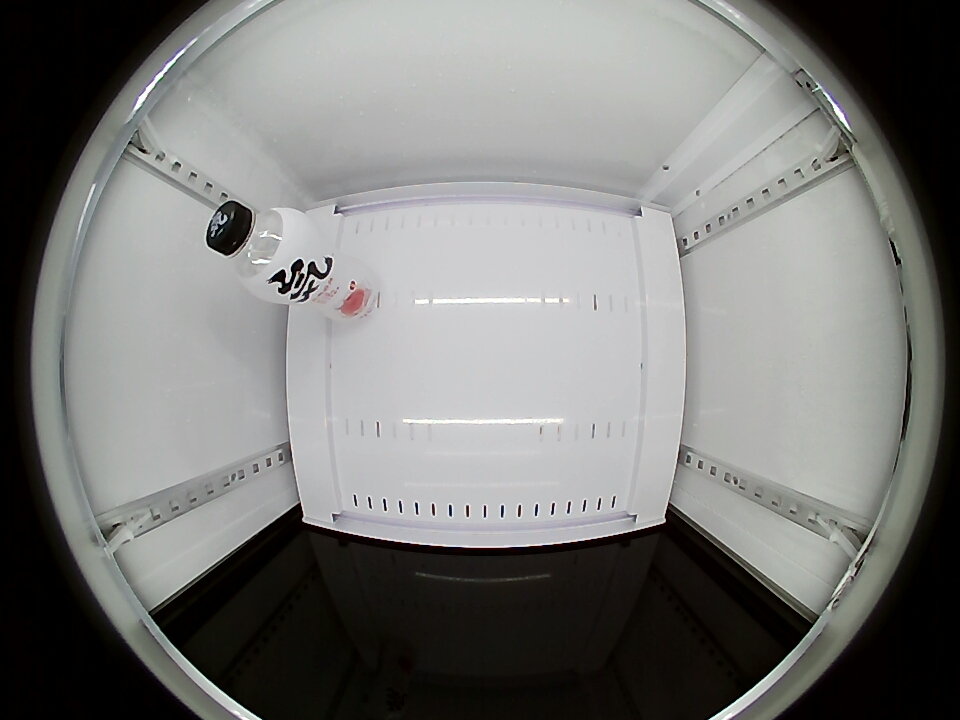yuanqishui: (206, 201, 316, 299)
